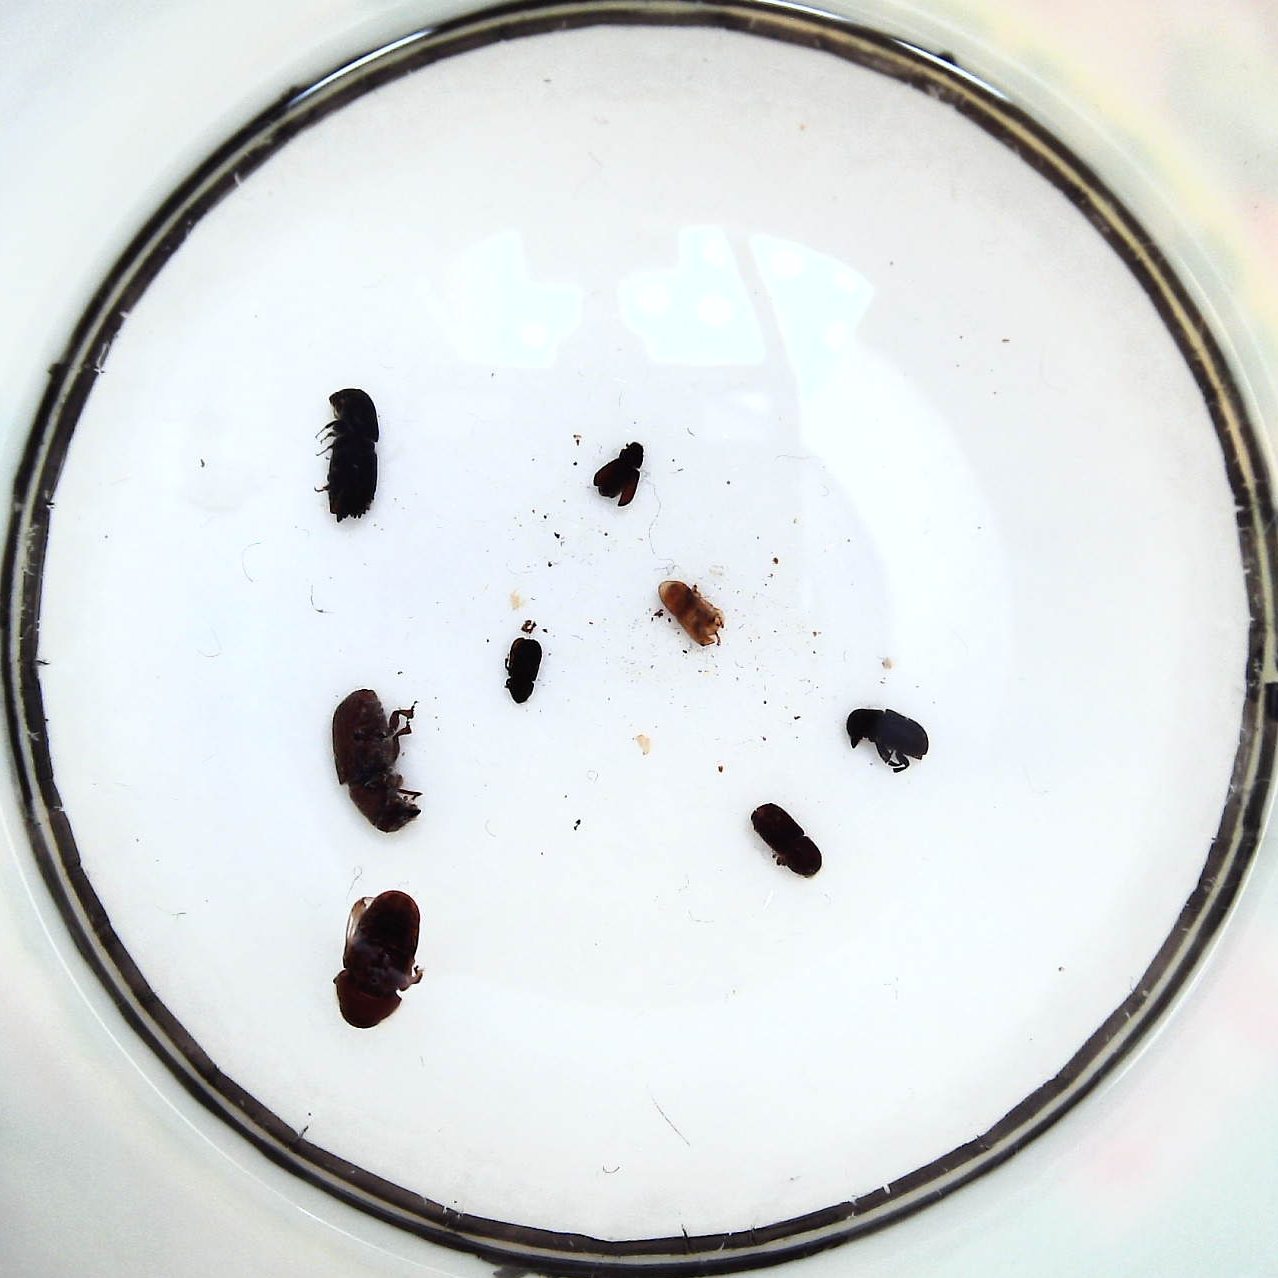Boerner: (328, 389, 382, 523)
Leconte: (331, 690, 421, 833), (332, 889, 421, 1028)
acuminatus: (593, 442, 644, 506), (507, 638, 541, 705)
armandi: (846, 707, 929, 761)
coleoptera: (659, 579, 724, 647)
linnaeus: (753, 803, 823, 877)
